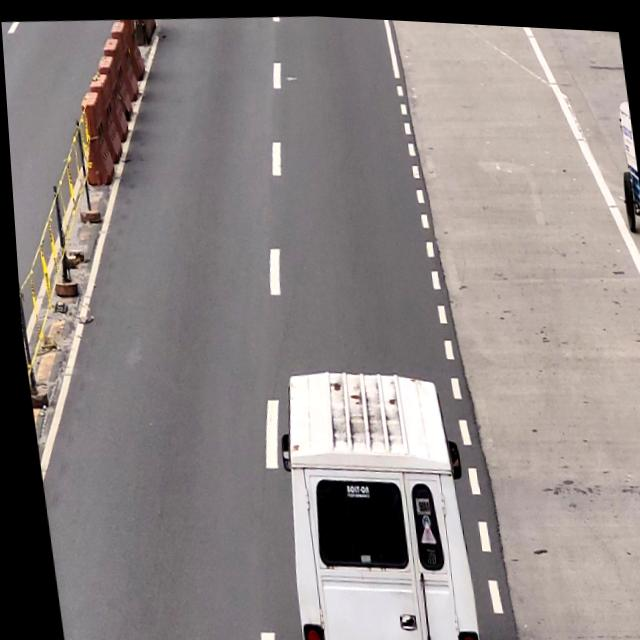Car: (265, 364, 474, 640)
